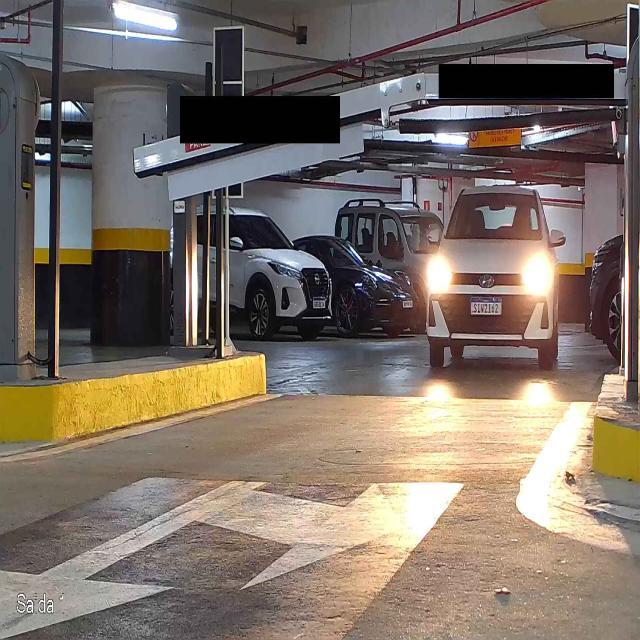mercosul_plate: (469, 296, 503, 316)
